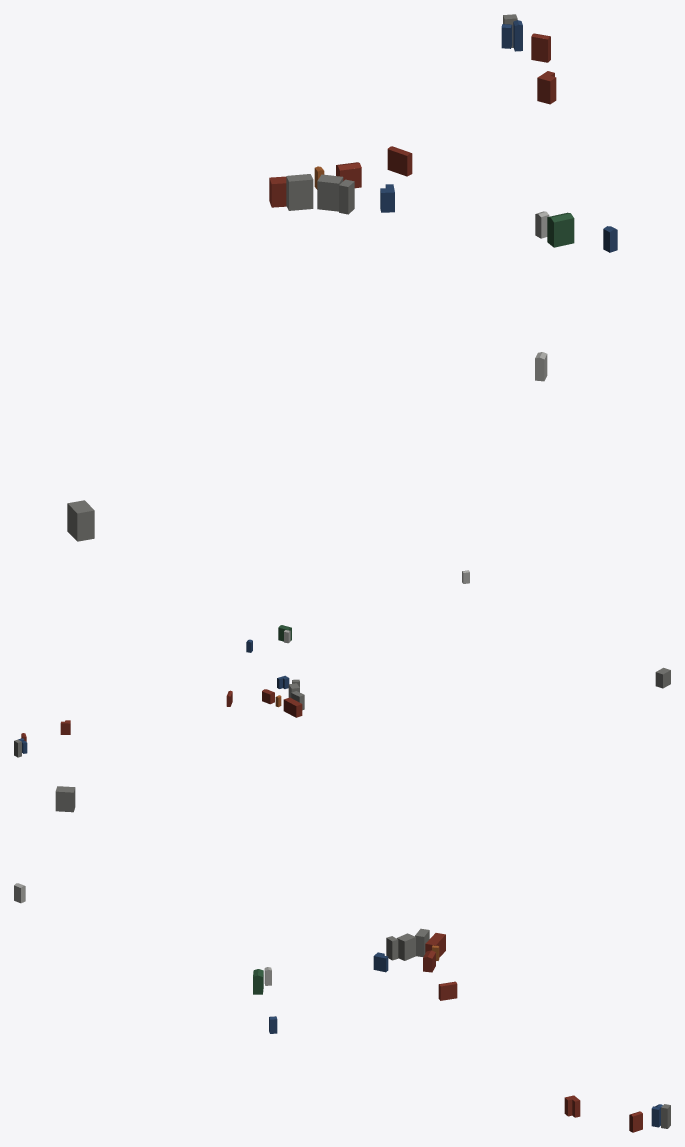
File: near-15-27353-14860.0465c242.glb
The picture shows the model from 3 angles, top to bottom: view 1: azimuth 30°, elevation 25°; view 2: azimuth 150°, elevation 25°; view 3: azimuth 270°, elevation 25°; orthographic projection. The views are drawn at different scales.
Size of the model in its own units: 758 by 112 by 698.
